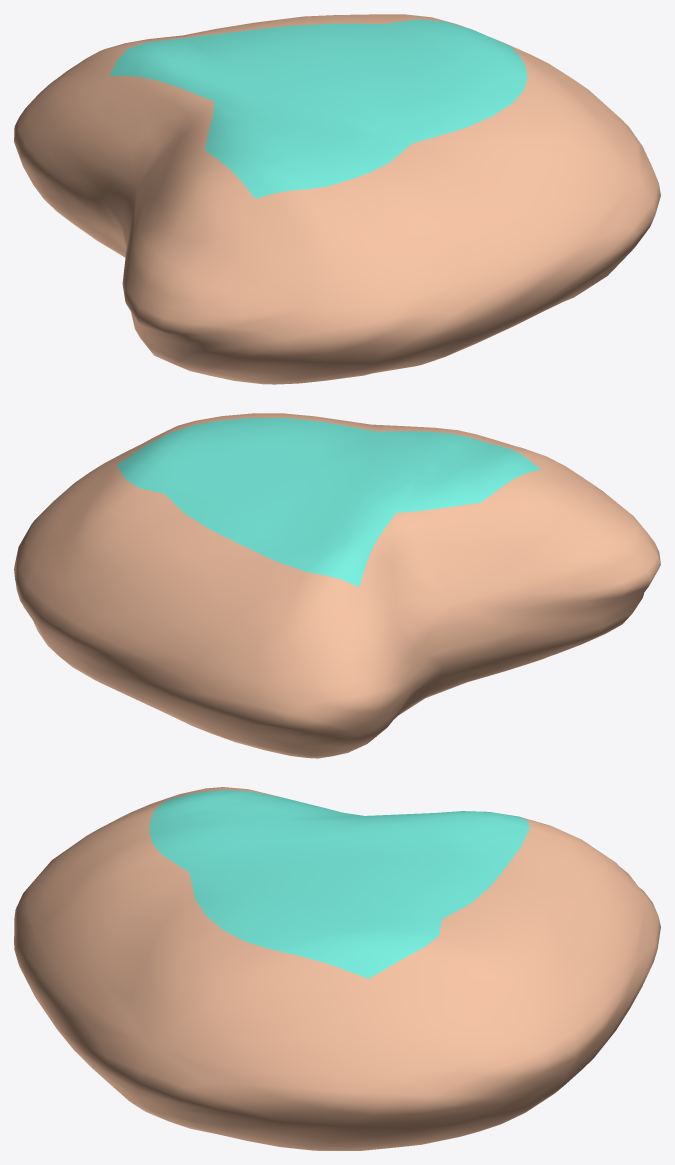
The model's file is background-rock-largec.glb.
3 views of the same model, one above another, from view 1: azimuth 30°, elevation 25°; view 2: azimuth 150°, elevation 25°; view 3: azimuth 270°, elevation 25° (orthographic). The views are drawn at different scales.
Parts seen in each view (by area): view 1: rock_largeC; view 2: rock_largeC; view 3: rock_largeC.
Part boxes in pixels (x1=…): rock_largeC: x1=14, y1=14, x2=660, y2=384; rock_largeC: x1=14, y1=413, x2=660, y2=758; rock_largeC: x1=14, y1=787, x2=660, y2=1150.
Size of the model in its own units: 0.9615 by 0.3189 by 0.9684.
